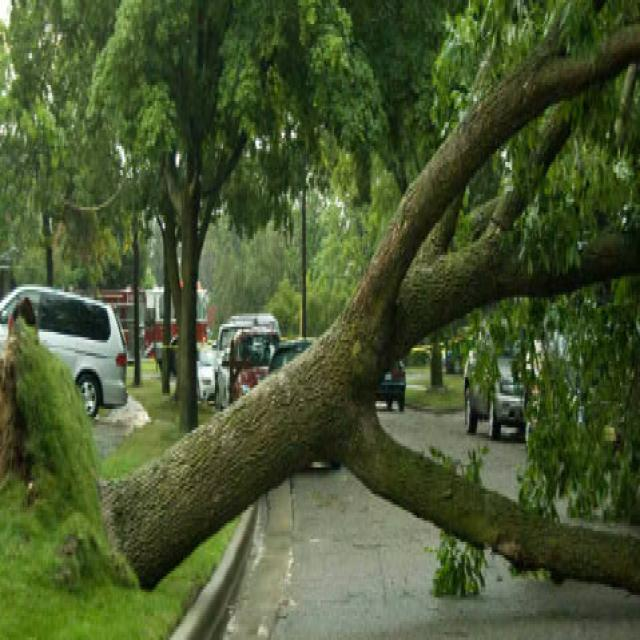fallen_tree: (65, 19, 638, 624)
